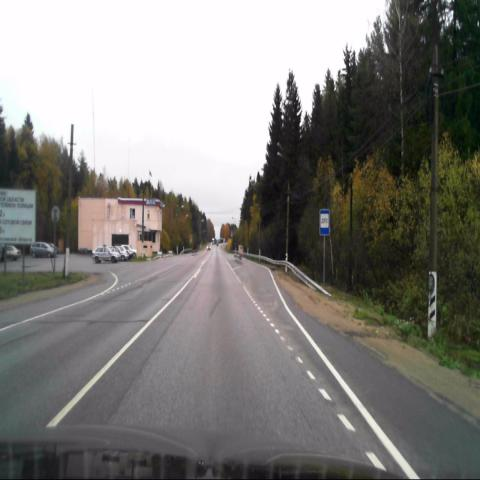7_12: (319, 210, 329, 236)
